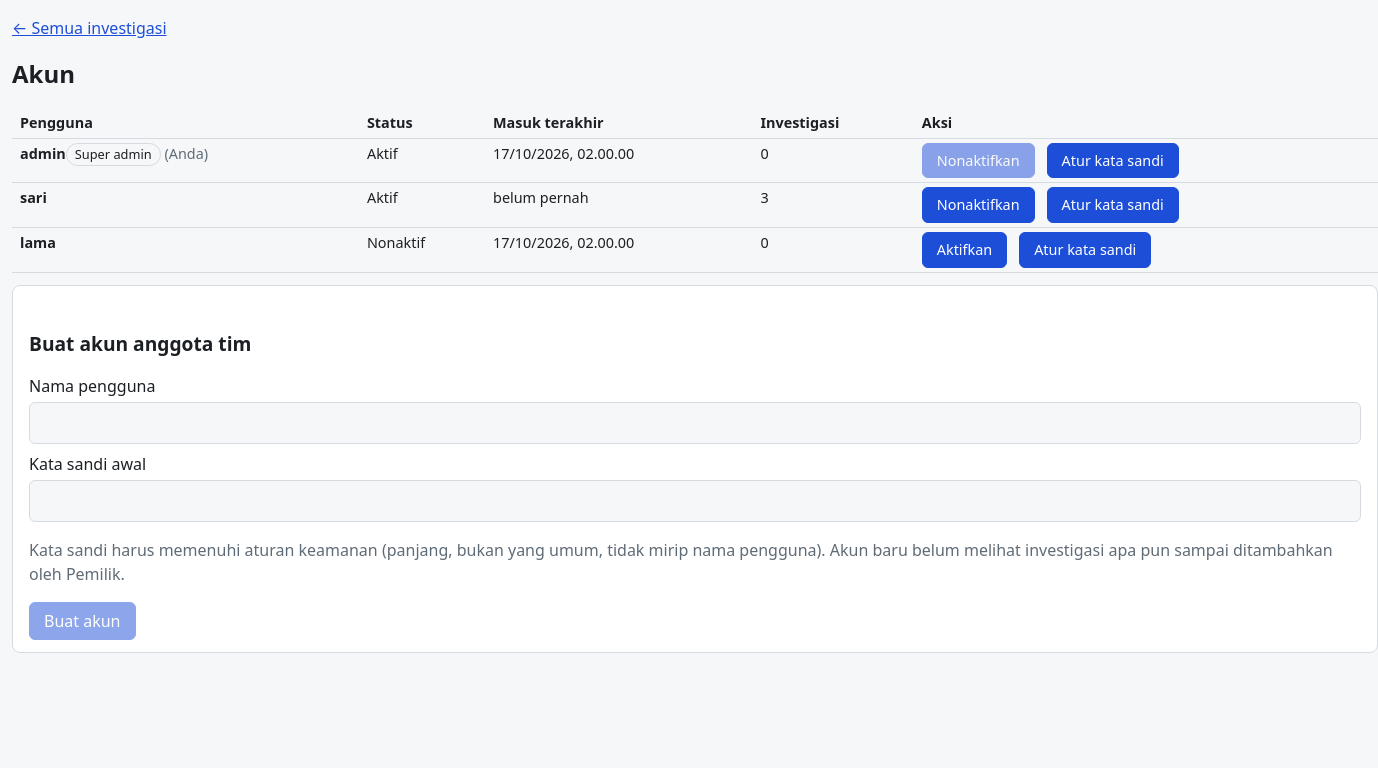
Test: UsersPage › menonaktifkan dan mengaktifkan akun
Click the button with aria-label "Nonaktifkan sari" at x=978, y=205, box [922, 187, 1035, 223]
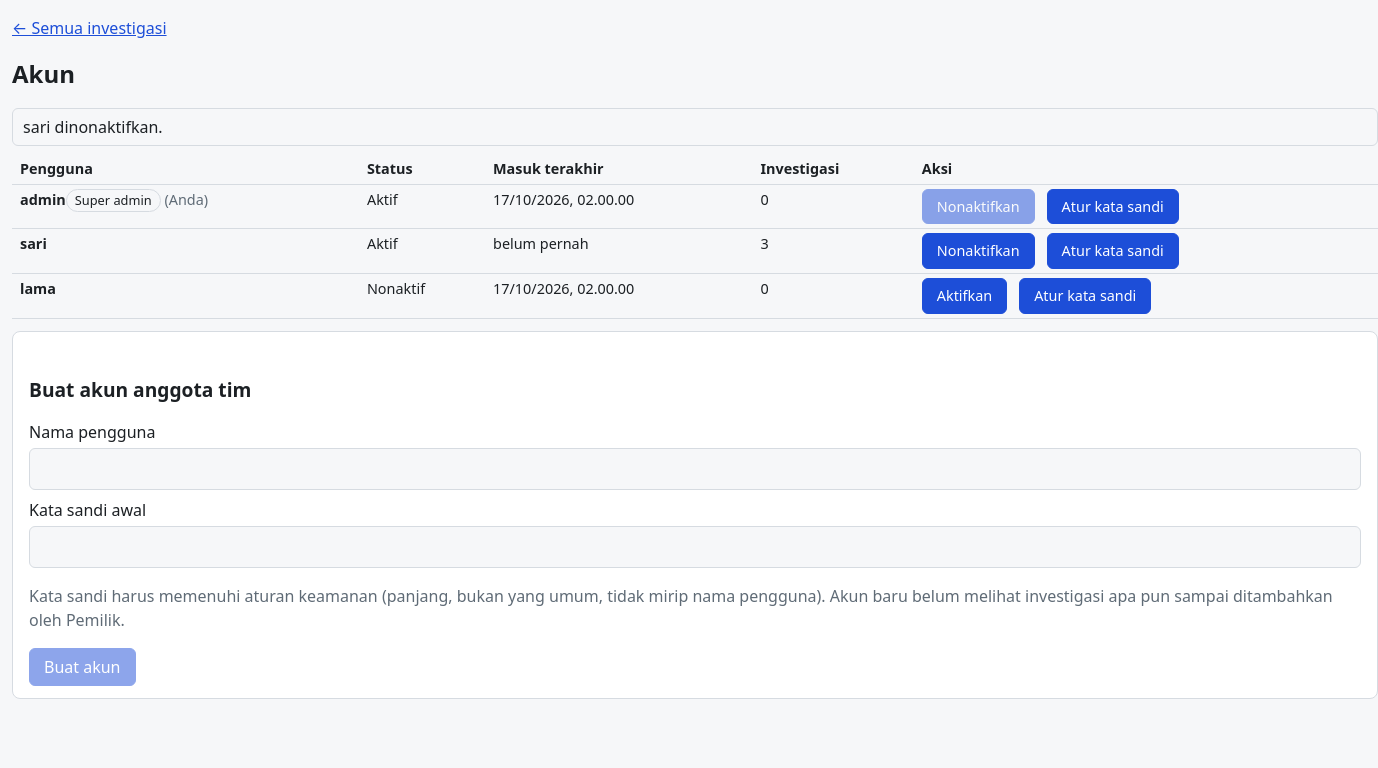
Check: the message shows "sari dinonaktifkan", box [23, 116, 163, 138]
Click the button with aria-label "Aktifkan lama" at x=964, y=296, box [922, 278, 1007, 314]
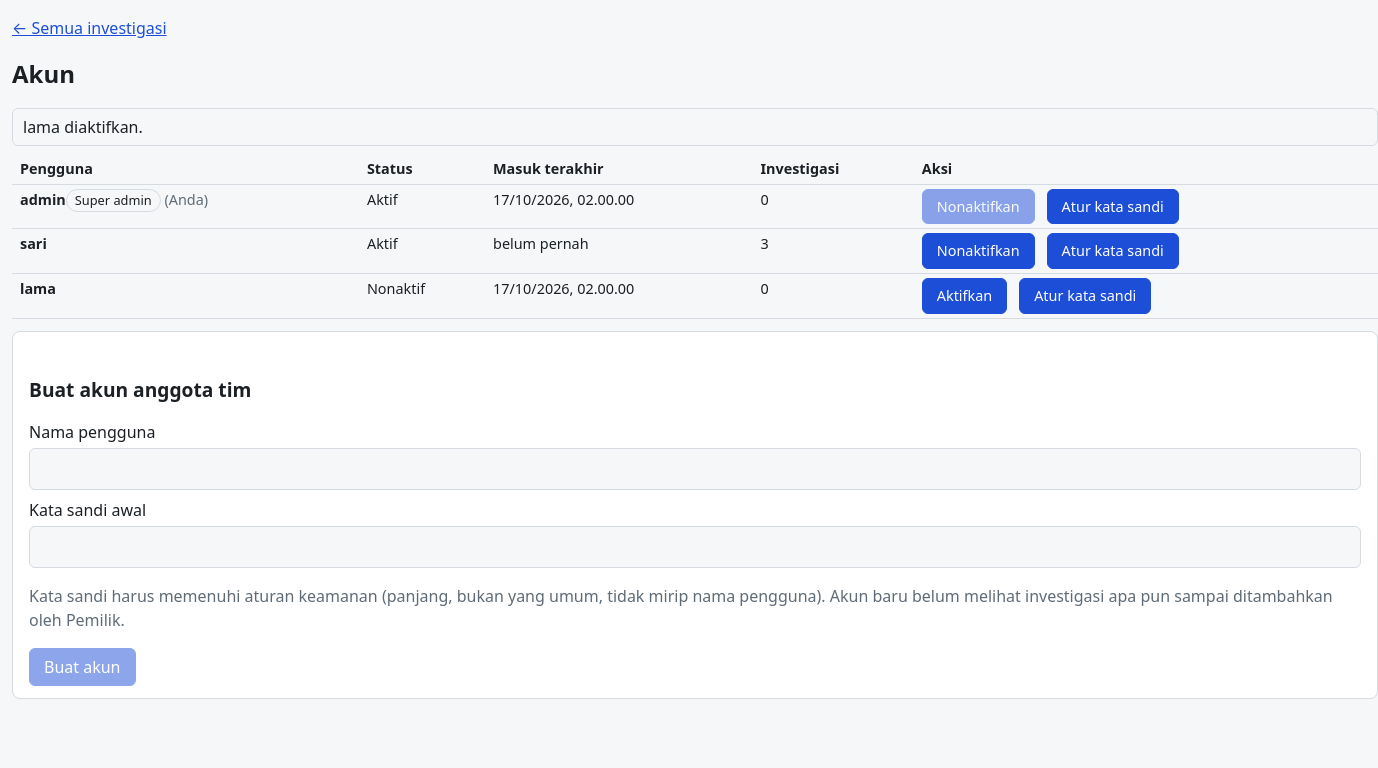
Check: the message shows "lama diaktifkan", box [23, 116, 143, 138]
